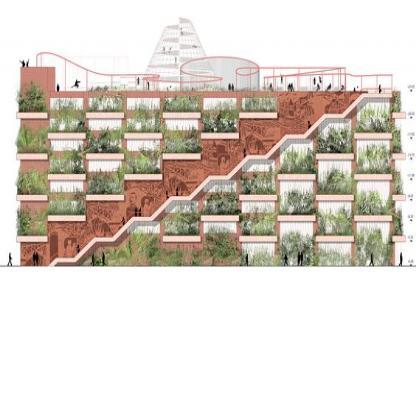Balcony: (55, 91, 400, 97), (21, 67, 55, 74)
Building Outline: (15, 51, 406, 266)
Deco: (21, 92, 368, 266)
Facade: (16, 51, 406, 266)
Window: (280, 222, 313, 266), (357, 222, 389, 266), (280, 180, 313, 214), (319, 201, 351, 234), (319, 159, 351, 192), (357, 181, 389, 214), (280, 139, 313, 171), (357, 140, 389, 172), (357, 98, 389, 130), (319, 119, 351, 151), (242, 242, 274, 266), (319, 242, 351, 266), (88, 181, 121, 193), (50, 181, 83, 193), (50, 201, 83, 213), (165, 222, 198, 234), (127, 222, 160, 234), (165, 201, 198, 213), (204, 180, 237, 192), (204, 201, 236, 213), (242, 200, 274, 212), (242, 222, 274, 234), (204, 222, 236, 234), (242, 180, 274, 192), (165, 140, 198, 151), (50, 98, 83, 109), (88, 98, 121, 109), (165, 98, 198, 109), (50, 119, 83, 130), (88, 119, 121, 130), (165, 119, 198, 130), (50, 140, 83, 151), (88, 140, 121, 151), (50, 160, 83, 171), (88, 160, 121, 171), (242, 160, 275, 171), (242, 98, 274, 109), (204, 119, 236, 130), (127, 160, 159, 171), (127, 98, 159, 109), (204, 98, 236, 109), (127, 119, 159, 130), (127, 140, 159, 151)
